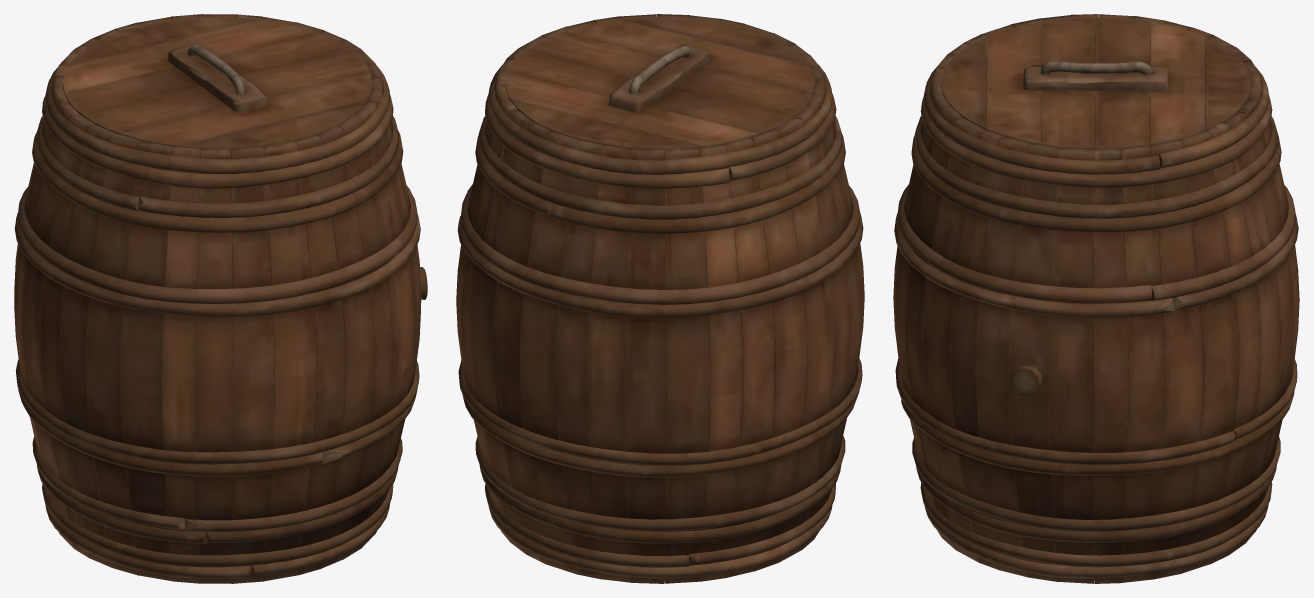
The model's file is barrel_small.glb.
3 views of the same model, side by side, from view 1: azimuth 30°, elevation 25°; view 2: azimuth 150°, elevation 25°; view 3: azimuth 270°, elevation 25° (orthographic).
Visible parts, largest first — view 1: wooden_barrels_01_barrel01; view 2: wooden_barrels_01_barrel01; view 3: wooden_barrels_01_barrel01.
Part boxes in pixels (left/top/right/bottom): wooden_barrels_01_barrel01: left=14, top=14, right=427, bottom=583; wooden_barrels_01_barrel01: left=456, top=14, right=864, bottom=583; wooden_barrels_01_barrel01: left=893, top=14, right=1299, bottom=583.
Size of the model in its own units: 0.743 by 0.9168 by 0.743.
Materials: 1 (1 with a texture image).
